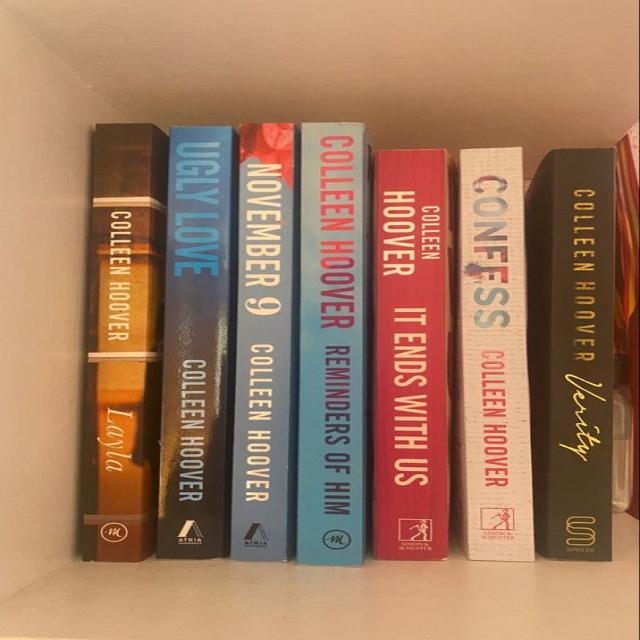book: (78, 123, 168, 560), (527, 149, 615, 561), (157, 126, 236, 559), (295, 123, 370, 566), (373, 150, 450, 560), (458, 149, 533, 561), (230, 123, 297, 560)
